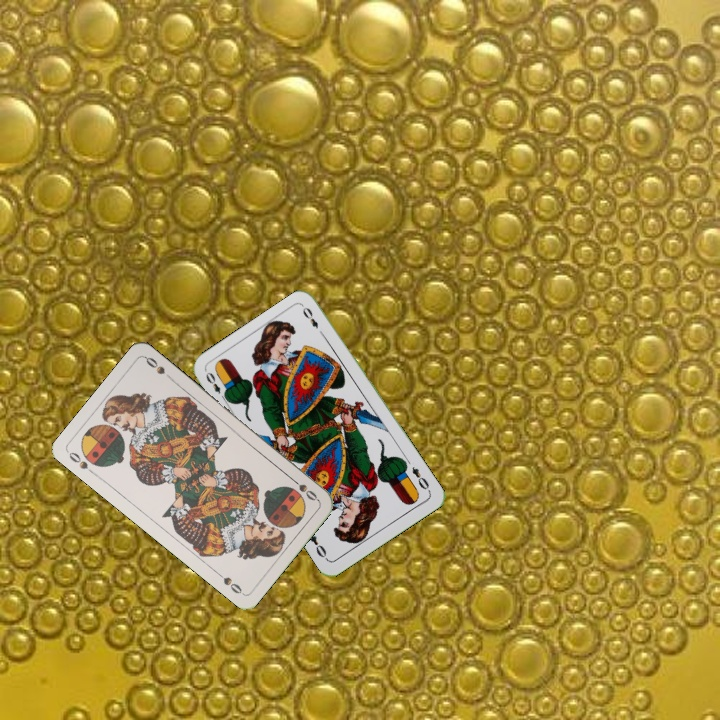EO: (201, 368, 230, 404), (408, 463, 433, 495)
SO: (286, 473, 321, 503), (65, 448, 99, 478)
